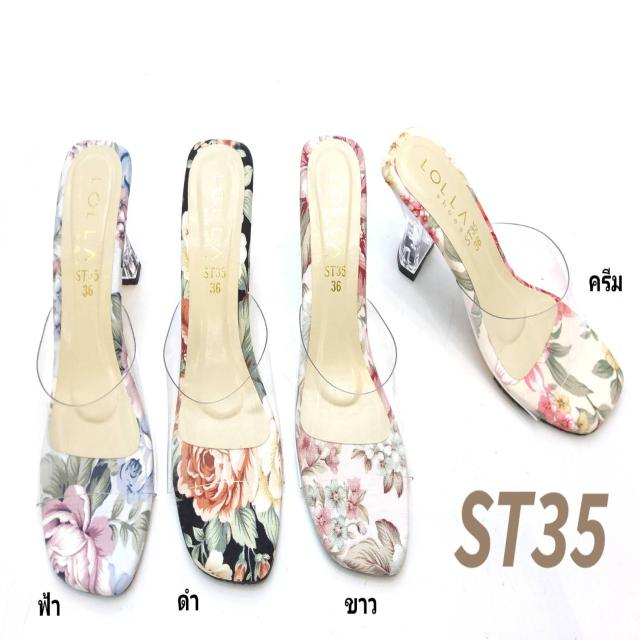black: (175, 134, 280, 581)
blue: (43, 144, 155, 598)
cream: (383, 120, 622, 434)
white: (294, 135, 412, 587)
